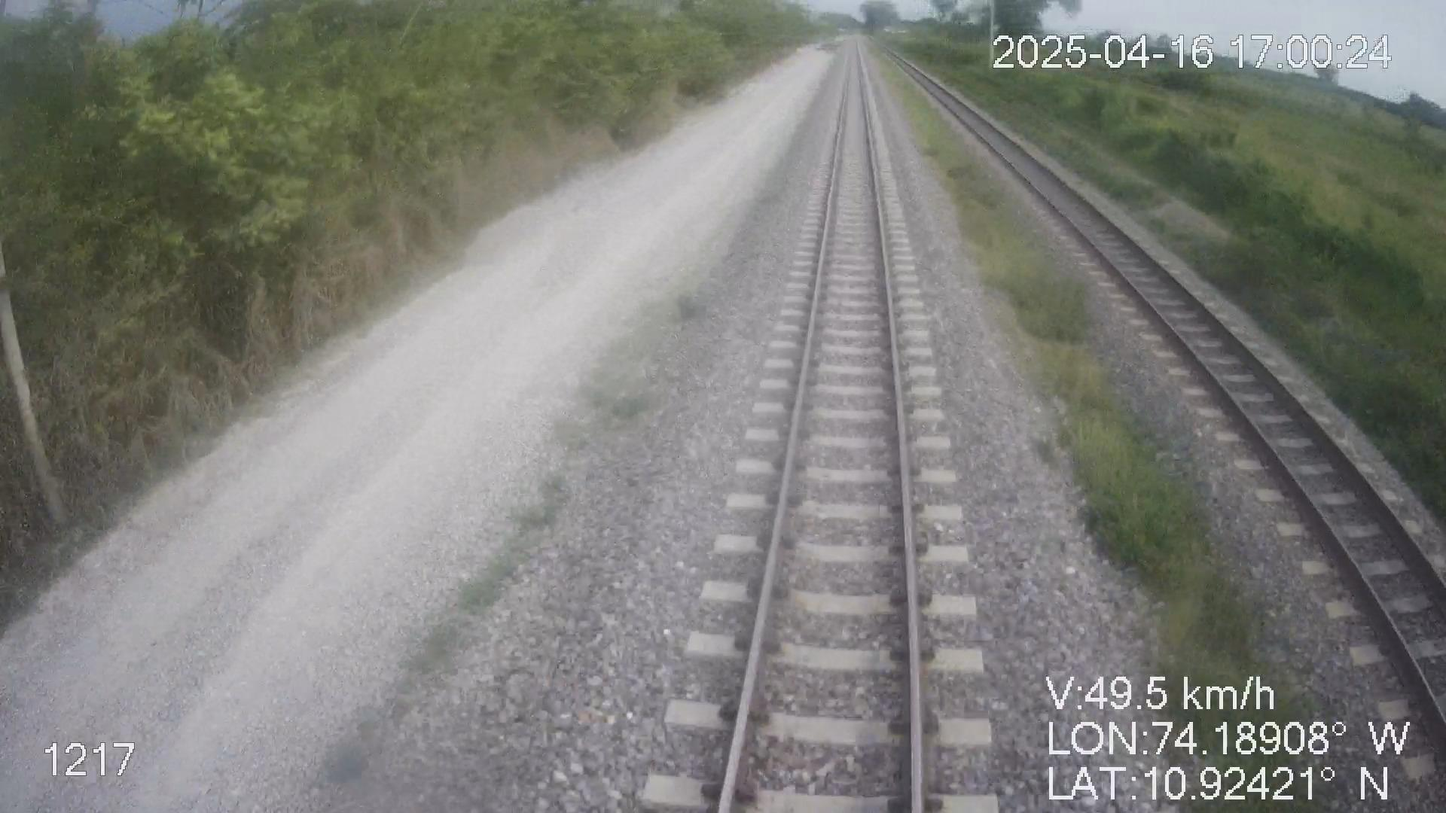Pasto: (0, 0, 847, 598), (874, 17, 1445, 597)
